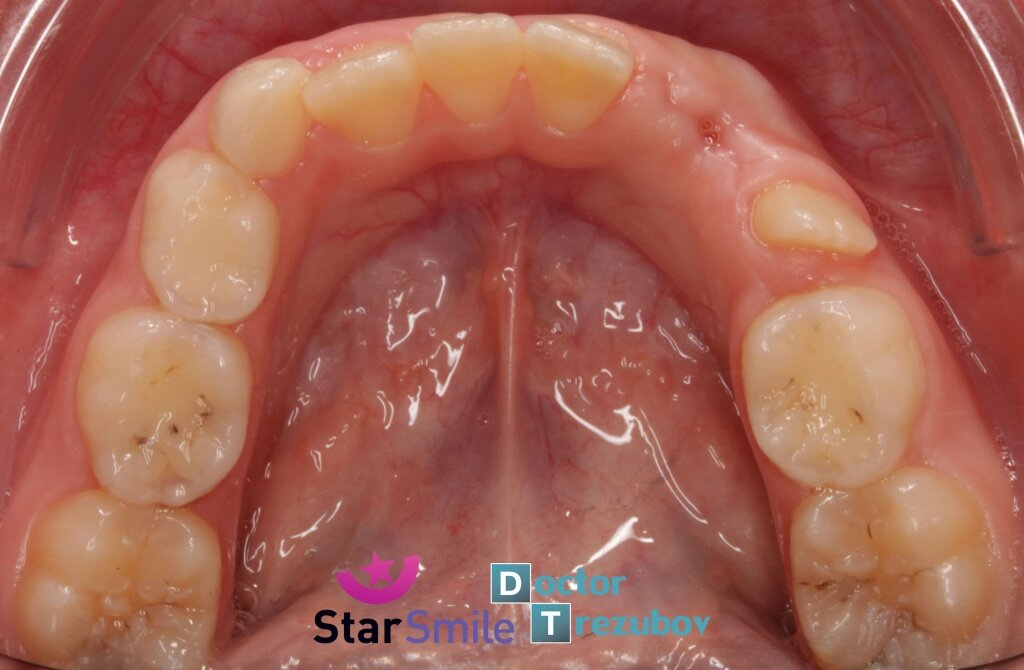UL1BC_decay: (738, 281, 925, 479)
UL2BC_decay: (785, 477, 1003, 665)
ULCI_healthy: (524, 21, 634, 139)
ULC_healthy: (753, 174, 877, 275)
UR1BC_healthy: (134, 158, 274, 319)
UR1M_decay: (25, 507, 207, 668)
UR2BC_decay: (68, 313, 245, 500)
URCI_healthy: (418, 16, 525, 118)
URC_healthy: (209, 71, 314, 168)
URLI_healthy: (313, 49, 421, 151)
